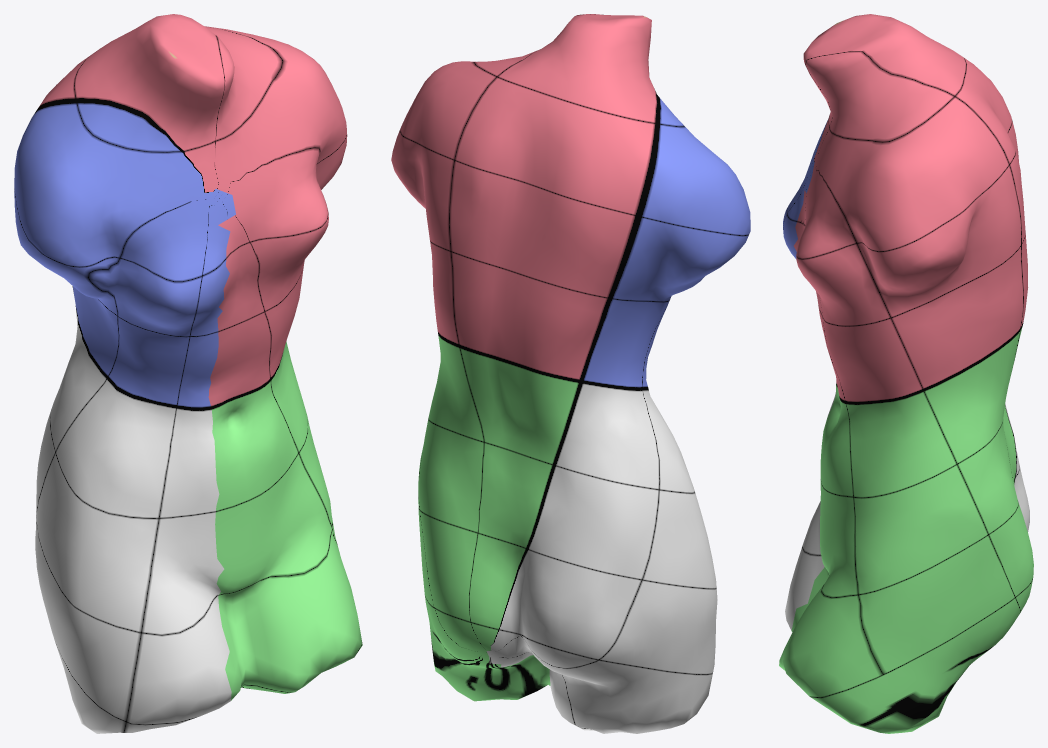
The model's file is venus.obj.
3 renders of one model, left to right at view 1: azimuth 30°, elevation 25°; view 2: azimuth 150°, elevation 25°; view 3: azimuth 270°, elevation 25°, orthographic. The views are drawn at different scales.
Size of the model in its own units: 0.9947 by 2 by 0.7084.
1 material, 1 textured.
